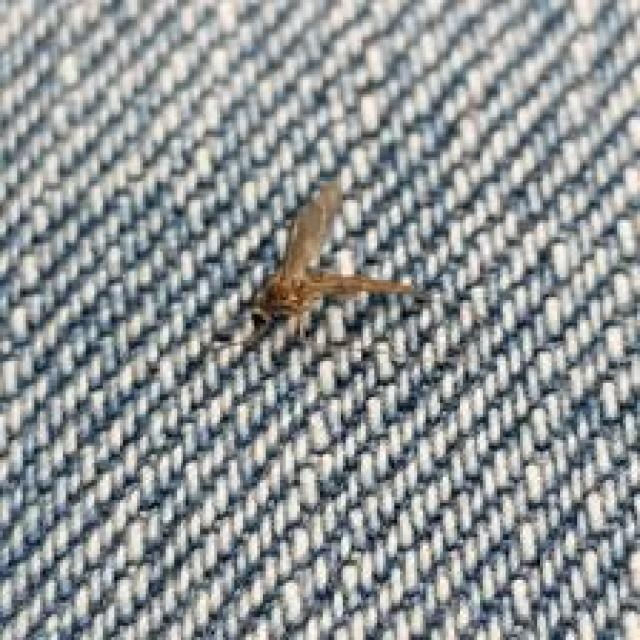Culex: (241, 178, 416, 336)
